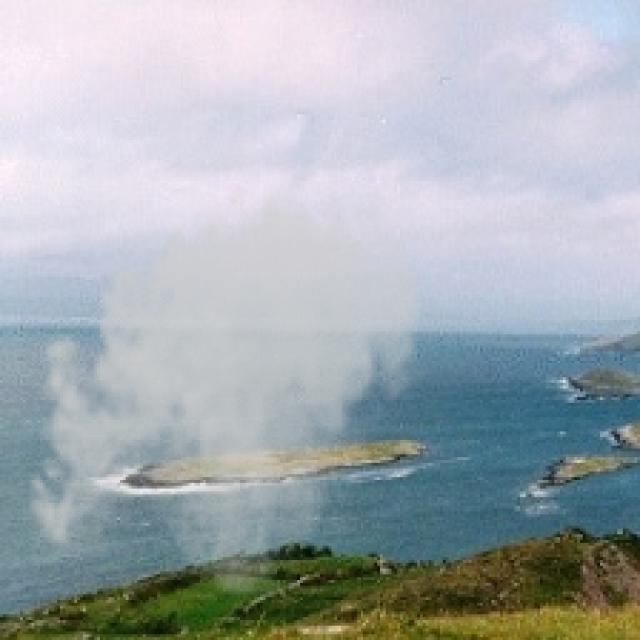smoke: (14, 174, 432, 597)
